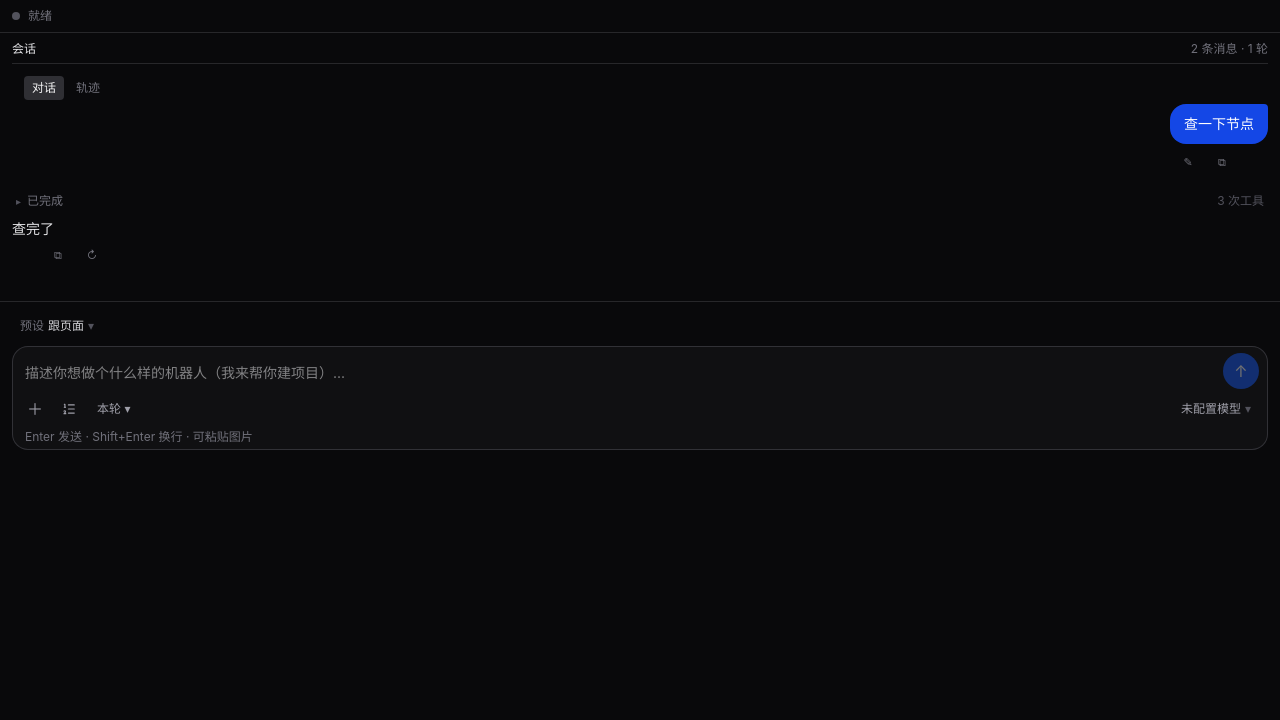
Scenario: ChatPanel 集成 ProposalCard › 过程行：一行结算 + 展开后逐条工具可读（2026-10-25 按 DSH 重排后）
Check: the text "3 次工具" is shown, box left=1217, top=190, right=1264, bottom=212
Check: the text "message_received" is not shown
Click the text "已完成". click: point(45, 201)
box: left=27, top=190, right=63, bottom=212
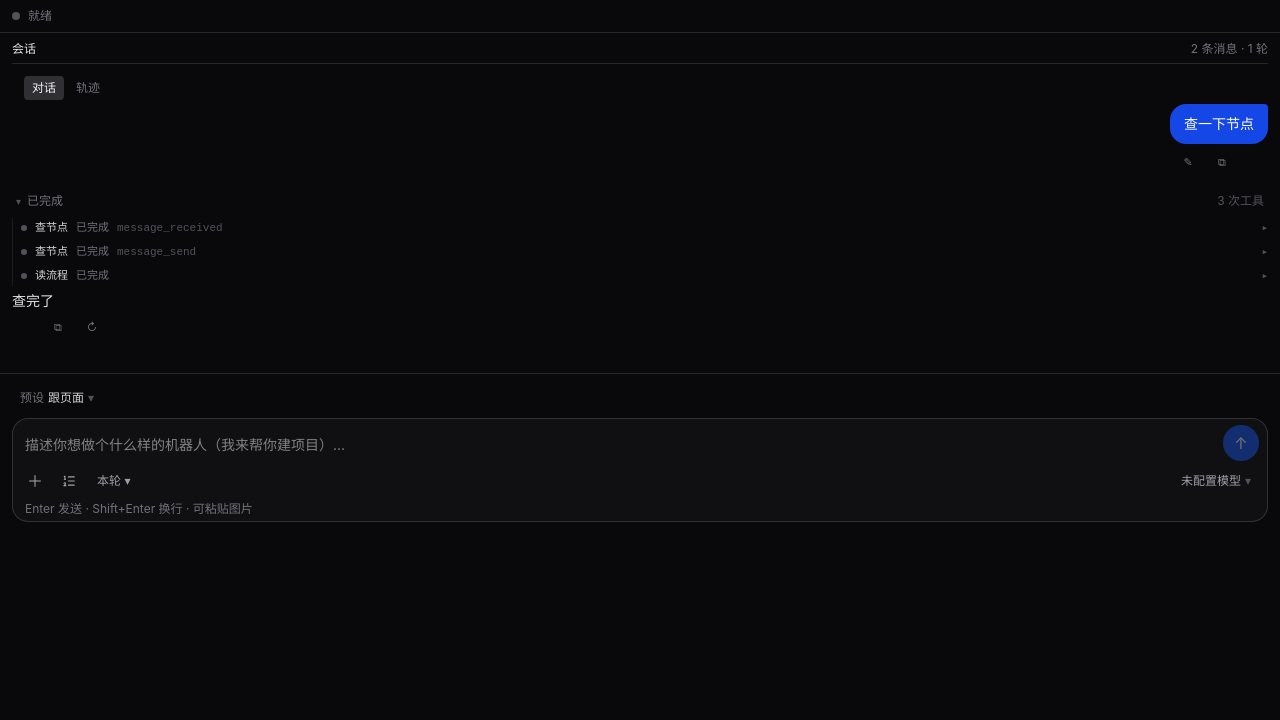
Check: the text "message_received" is shown, box left=117, top=218, right=223, bottom=238
Check: the text "message_send" is shown, box left=117, top=242, right=196, bottom=262
